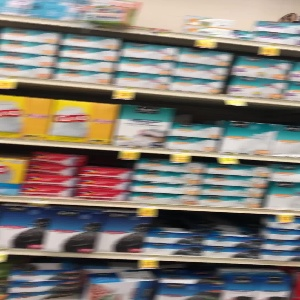void: (130, 1, 187, 30)
